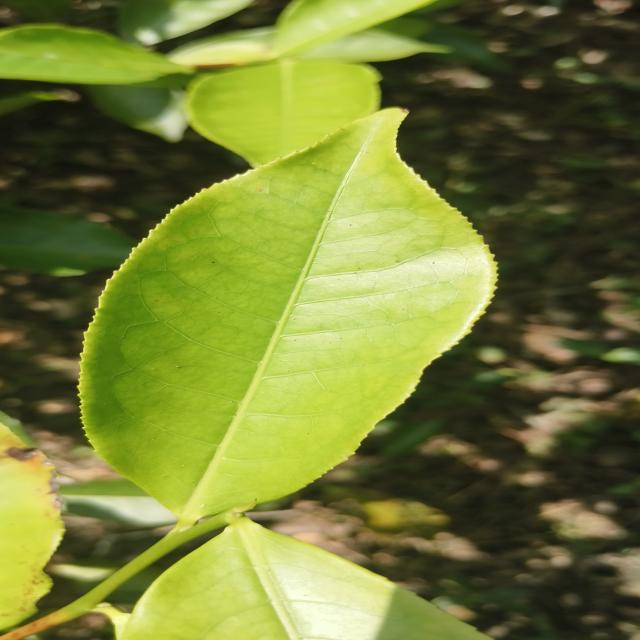Leaf: (81, 109, 494, 524), (121, 516, 482, 640), (187, 60, 379, 167), (0, 425, 64, 629), (0, 24, 191, 85), (0, 206, 135, 276), (272, 0, 435, 57), (118, 0, 253, 45), (87, 85, 188, 142), (60, 479, 176, 527), (297, 29, 444, 62), (167, 27, 275, 67)
